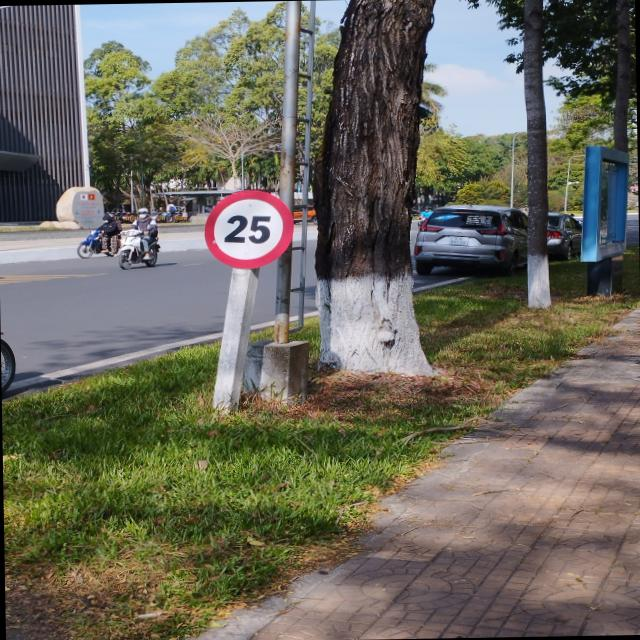Tre_Em: (205, 189, 294, 269)
